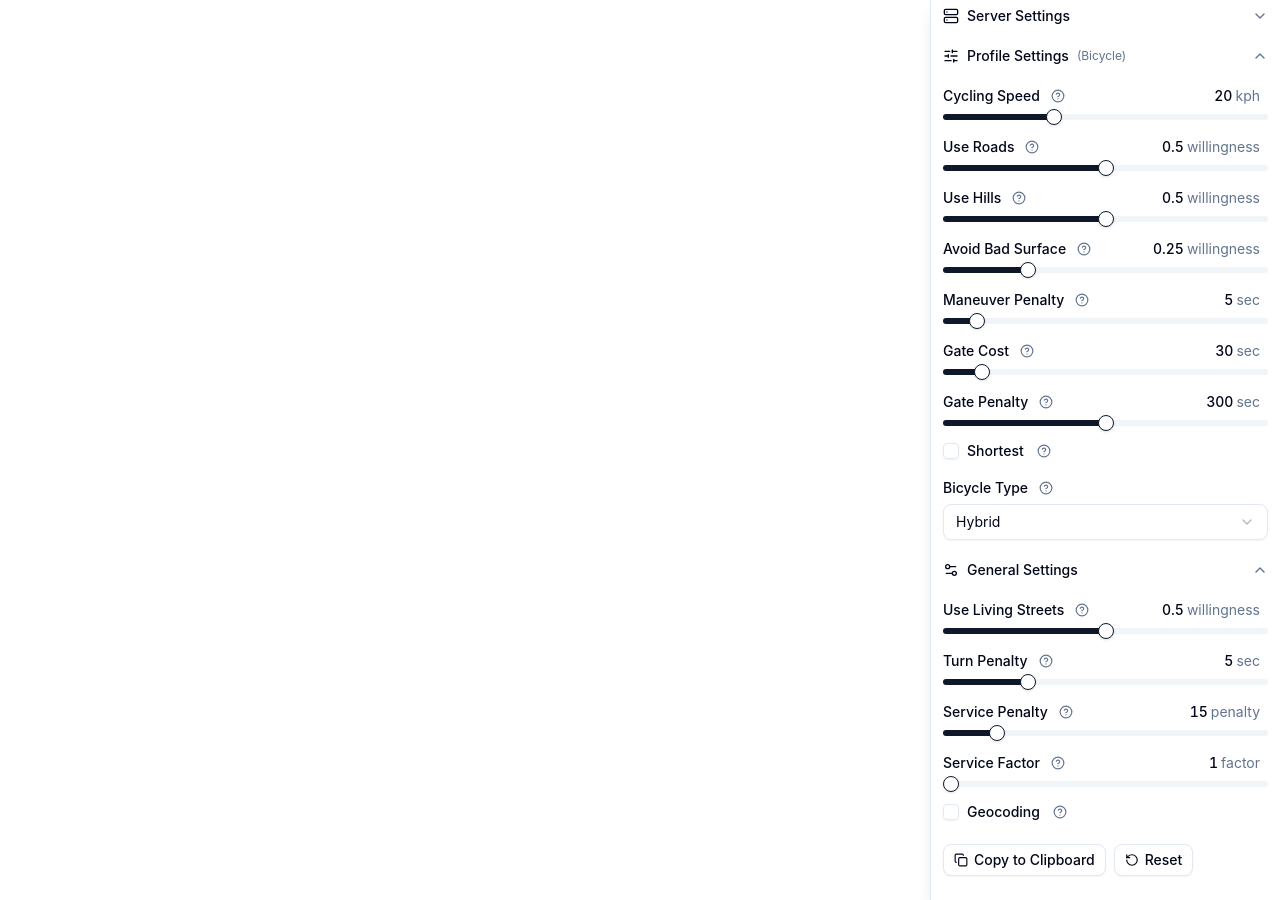
Scenario: SettingsPanel › should show Copied! feedback after clicking Copy to Clipboard
The width and height of the screenshot is (1280, 900).
(page scrolled)
Click the button "Copy to Clipboard".
click(1024, 860)  # box [943,844,1106,876]
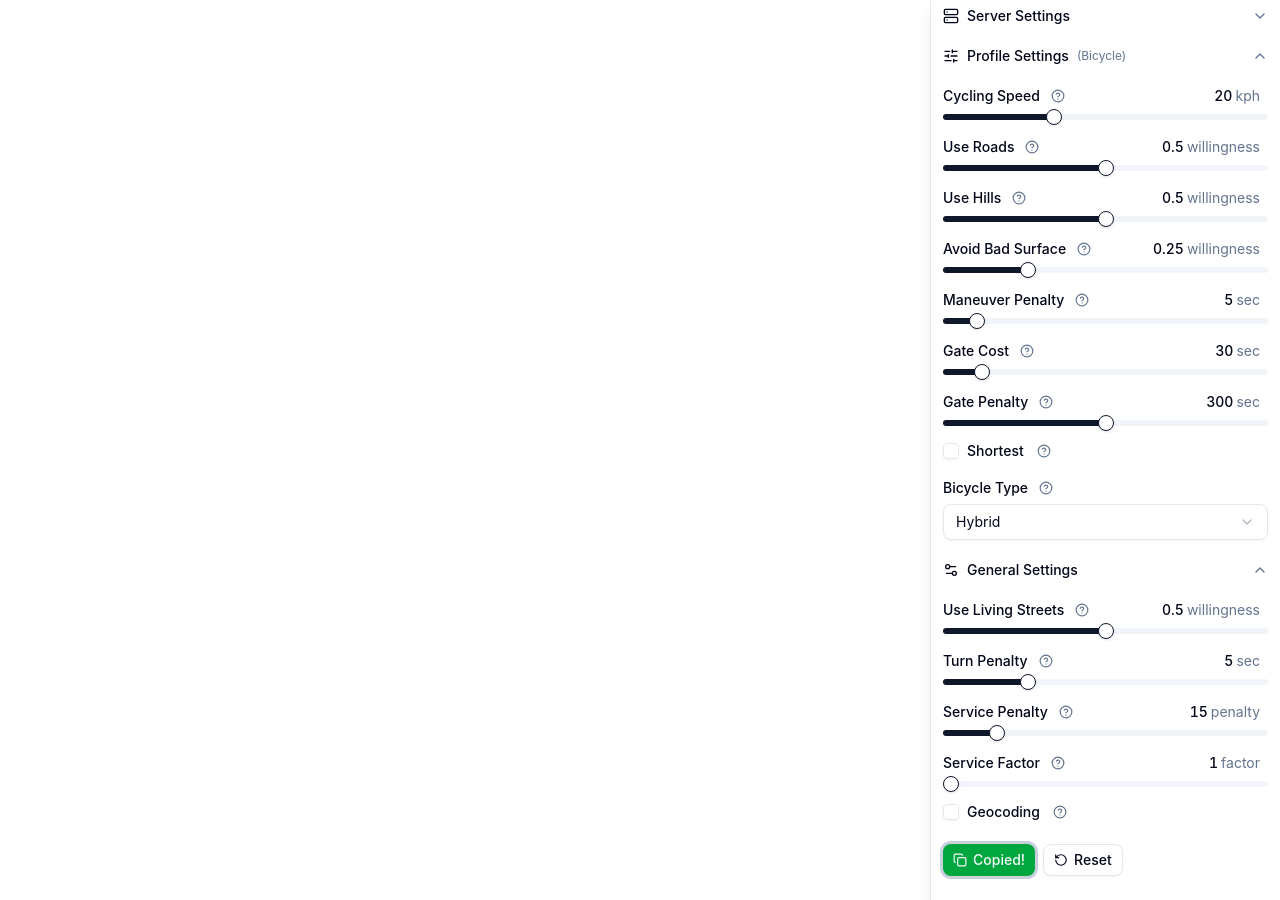
Check: the button "Copied!" is shown, box [943,844,1035,876]
